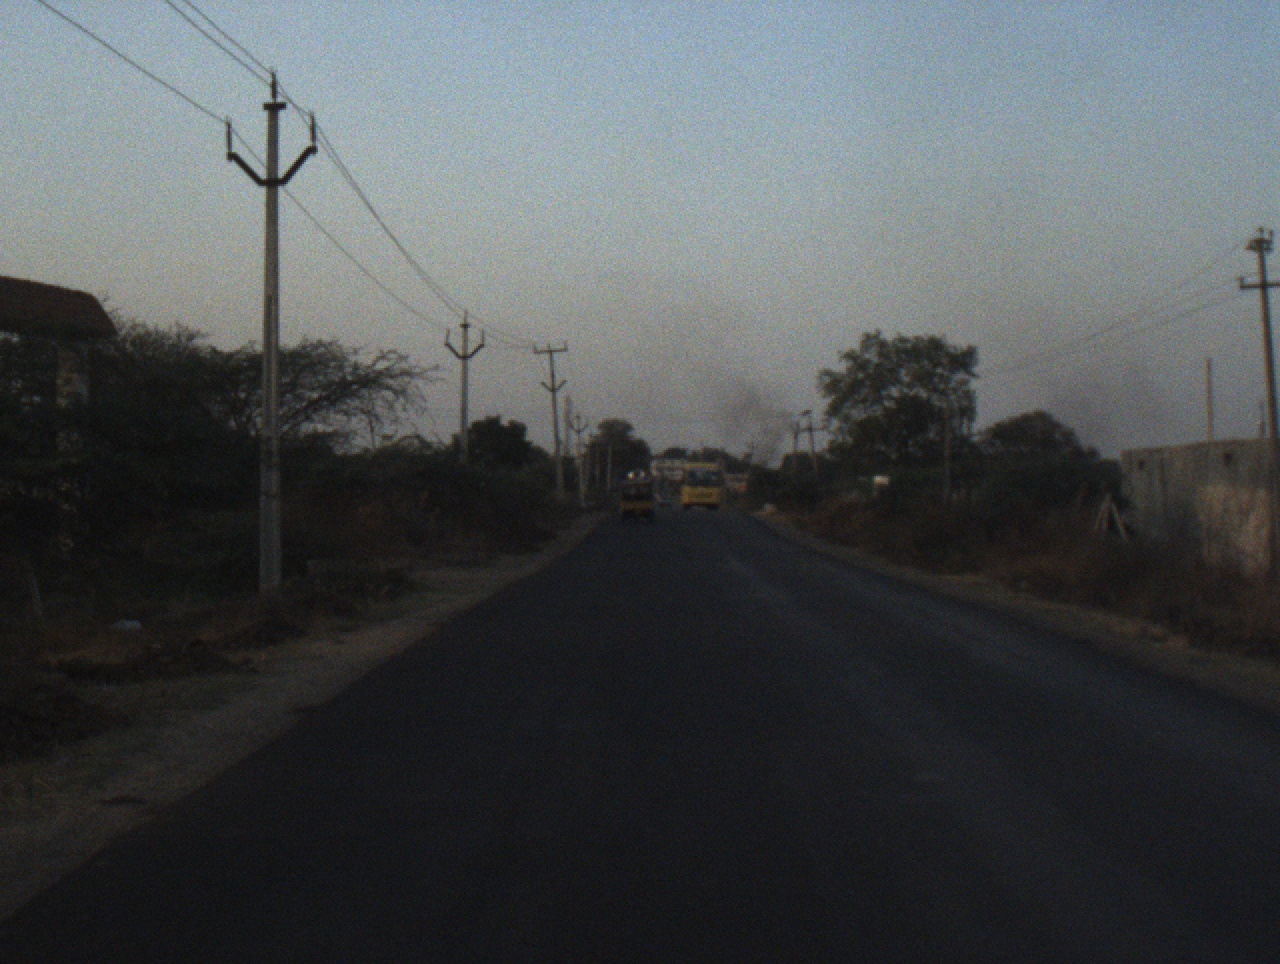autorickshaw: (618, 467, 658, 526)
bus: (675, 458, 728, 512)
car: (656, 491, 673, 507)
